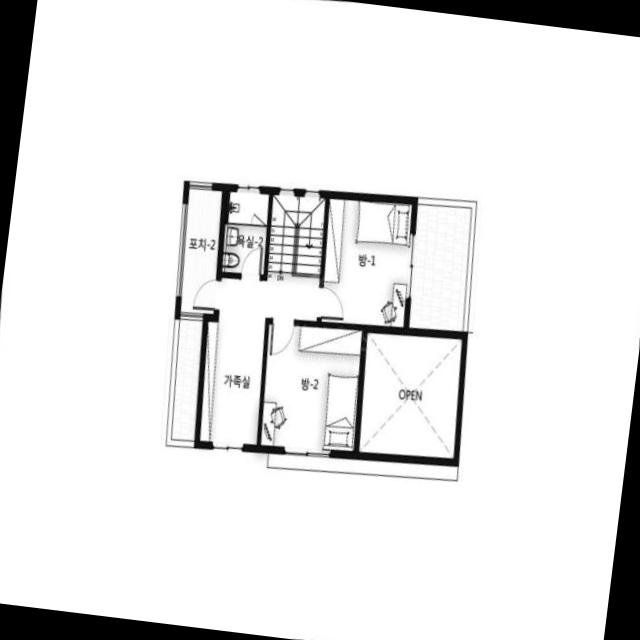background: (0, 0, 640, 640)
space_balconi: (180, 188, 222, 314)
space_bedroom: (260, 324, 362, 451), (320, 198, 411, 327)
space_living_room: (199, 278, 319, 444)
space_other: (358, 332, 462, 458)
space_staircase: (267, 194, 325, 285)
space_toilet: (222, 190, 269, 274)
